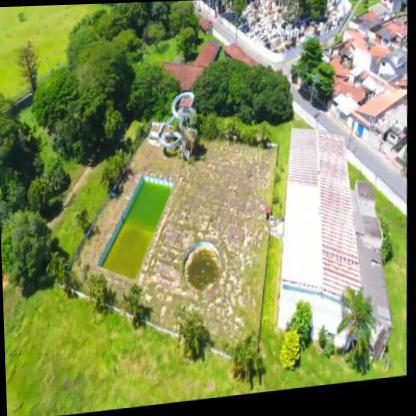agua: (112, 189, 176, 280), (186, 242, 229, 302)
